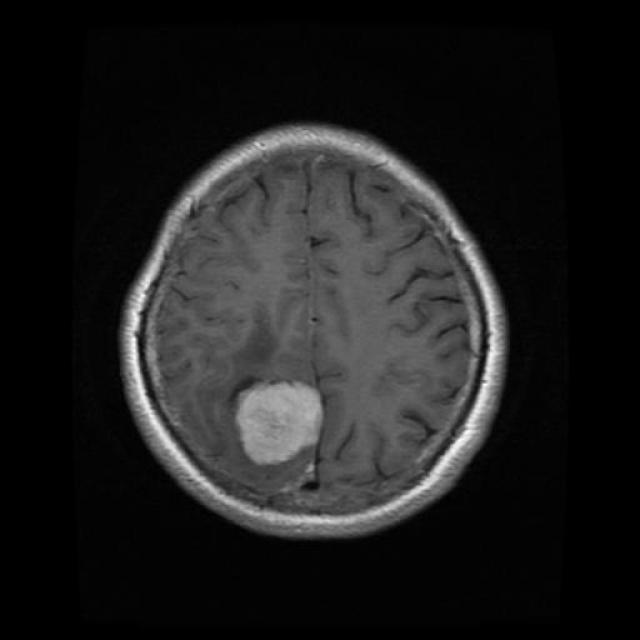Brain-Tumor: (232, 371, 330, 473)
